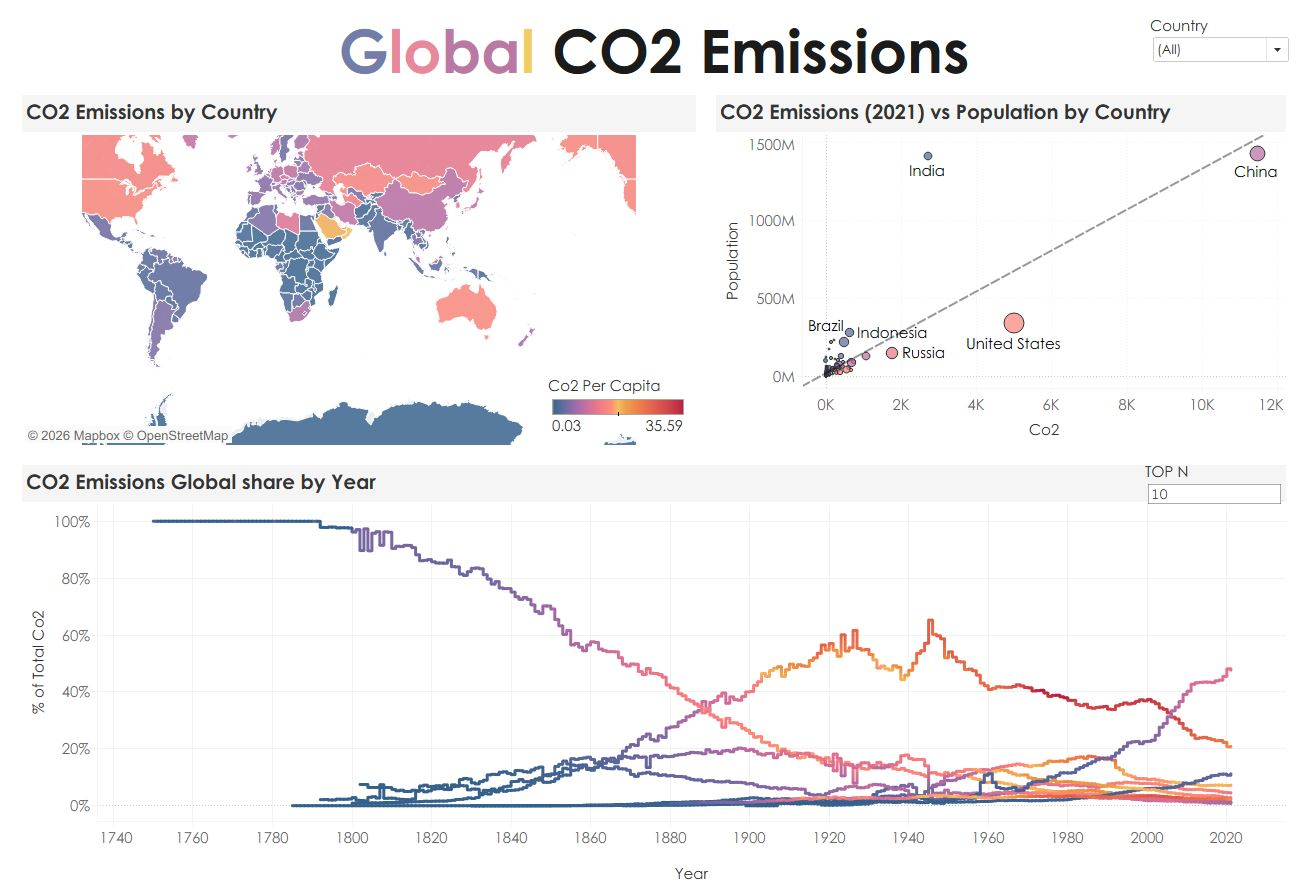

The page's visual inventory and layout, read from the dashboard file:
{"tool":"tableau","page":{"name":"Global CO2 Emissions","canvas":[1300,950],"ordinal":0},"visuals":[{"type":"text","box":[8,8,1284,68]},{"type":"worksheet","title":"Map","mark":"Automatic","box":[8,76,725,433]},{"type":"worksheet","title":"Scatter Plot","mark":"Circle","rows":["population"],"cols":["co2"],"box":[733,76,559,433]},{"type":"legend","title":"Map","param":"[federated.1oah2ws0jnnci51052hxn14f948k].[sum:co2_per_capita:qk]","box":[1020,160,140,88]},{"type":"worksheet","title":"Line Chart","mark":"Automatic","cols":["year"],"box":[8,509,1284,433]}]}

Visuals, with their boxes on the page's 1300x950 design canvas (x1, y1, x2, y2). These are canvas units, not pixel positions in the 1316x896 screenshot, which may show the page scaled, cropped or inside an application window:
text: box(8, 8, 1292, 76)
"Map" worksheet: box(8, 76, 733, 509)
"Scatter Plot" worksheet (Circle marks): box(733, 76, 1292, 509)
"Map" legend: box(1020, 160, 1160, 248)
"Line Chart" worksheet: box(8, 509, 1292, 942)
